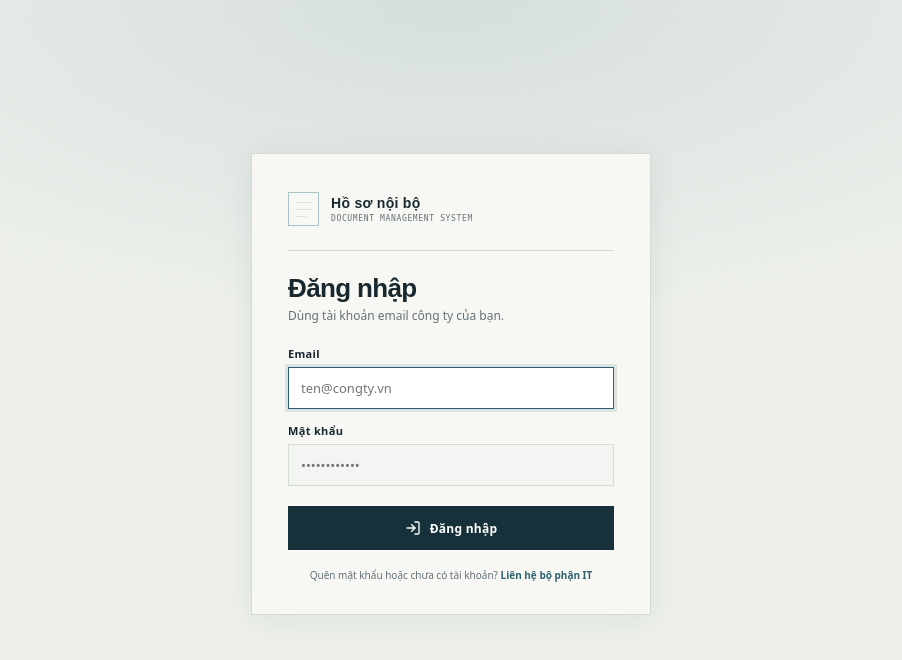
Test: LoginPage › hiển thị lỗi khi submit email trống
The width and height of the screenshot is (902, 660).
Click the button "Đăng nhập" at (451, 528), box [288,506,614,550]
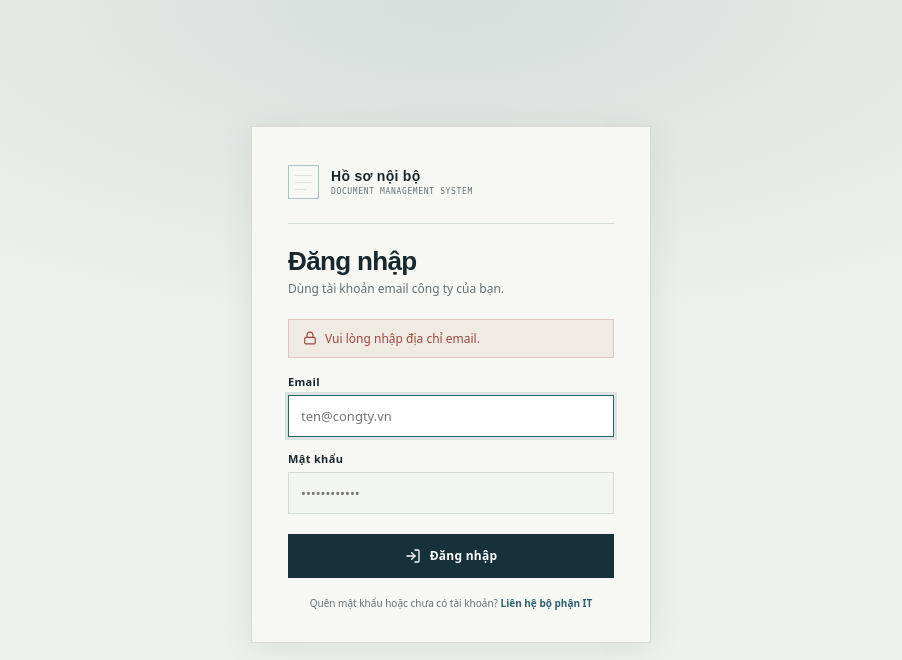
Expected: the message "Vui lòng nhập địa chỉ email." is shown, [288,318,614,358]
